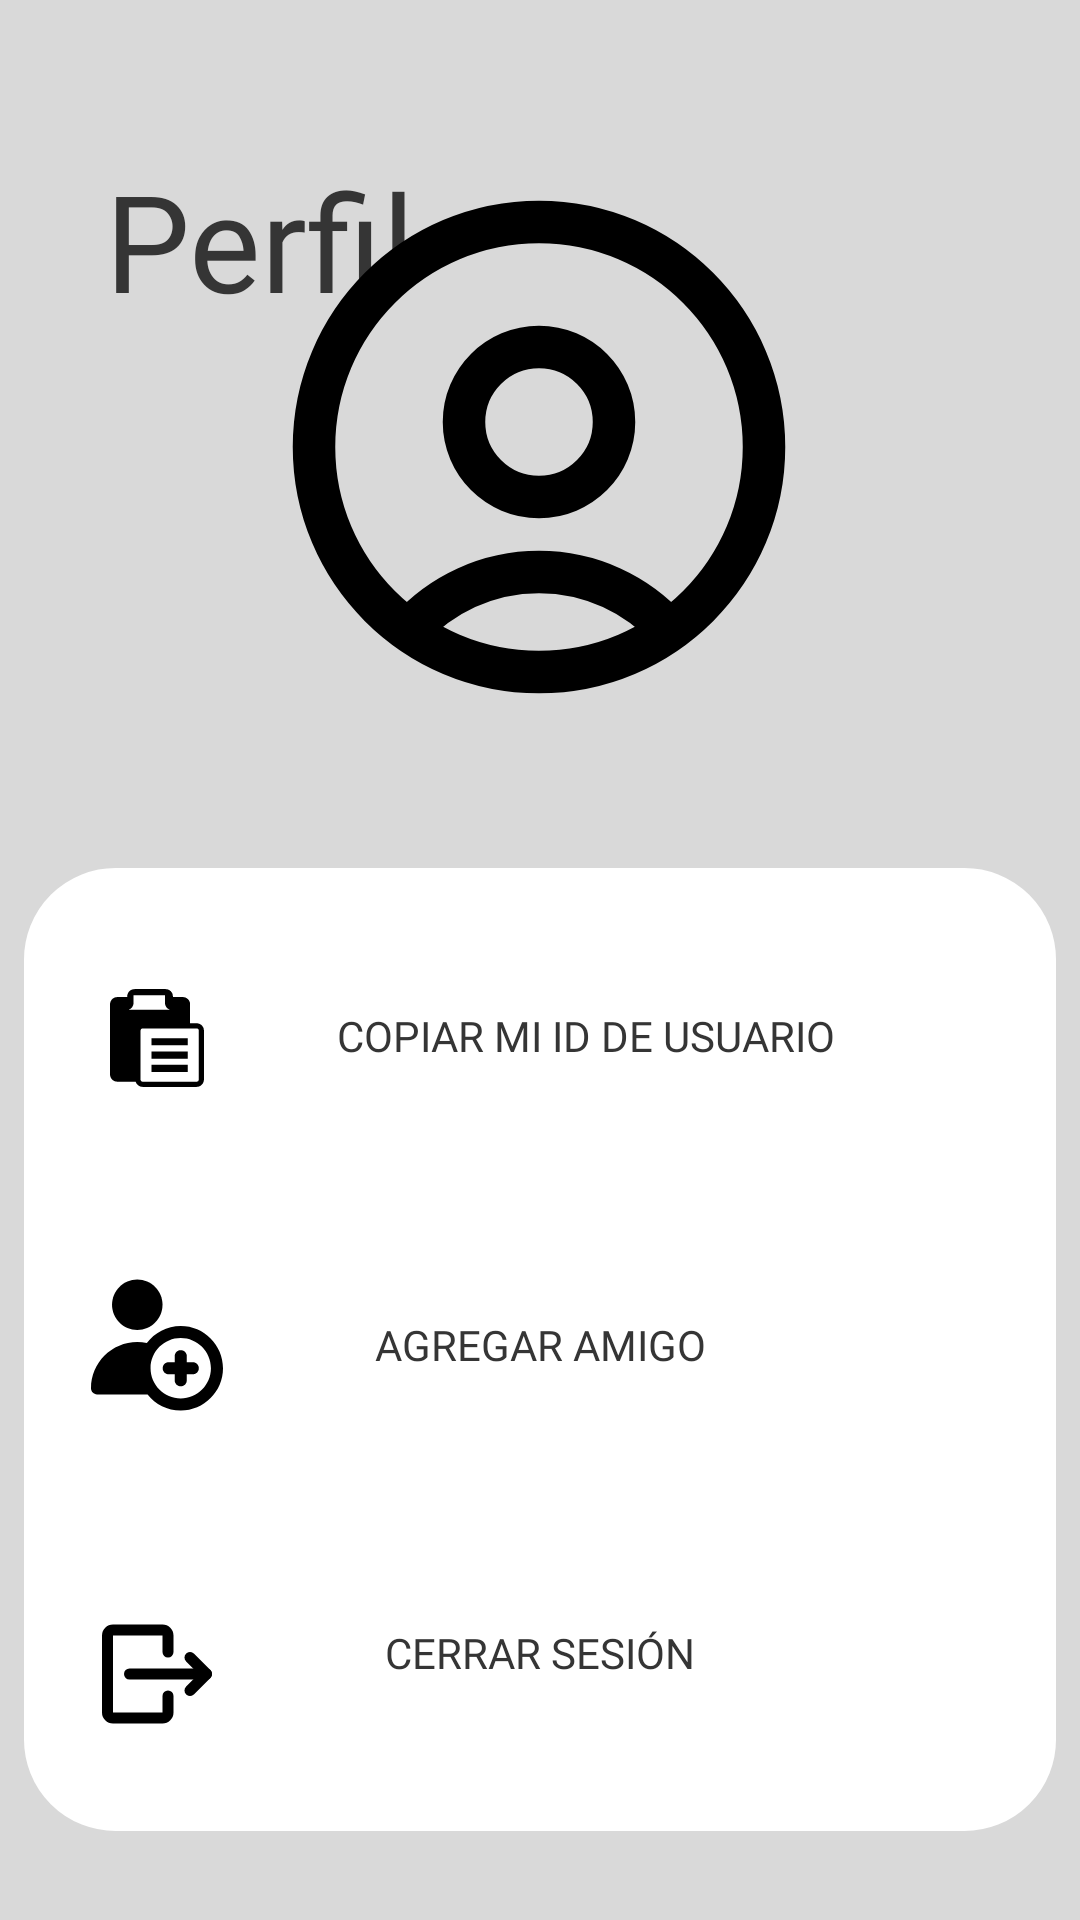

Locate icon controls on the screen. Image size 1080×1920, boxes as (x1, y1, x2, y2).
paste: (110, 989, 204, 1087)
